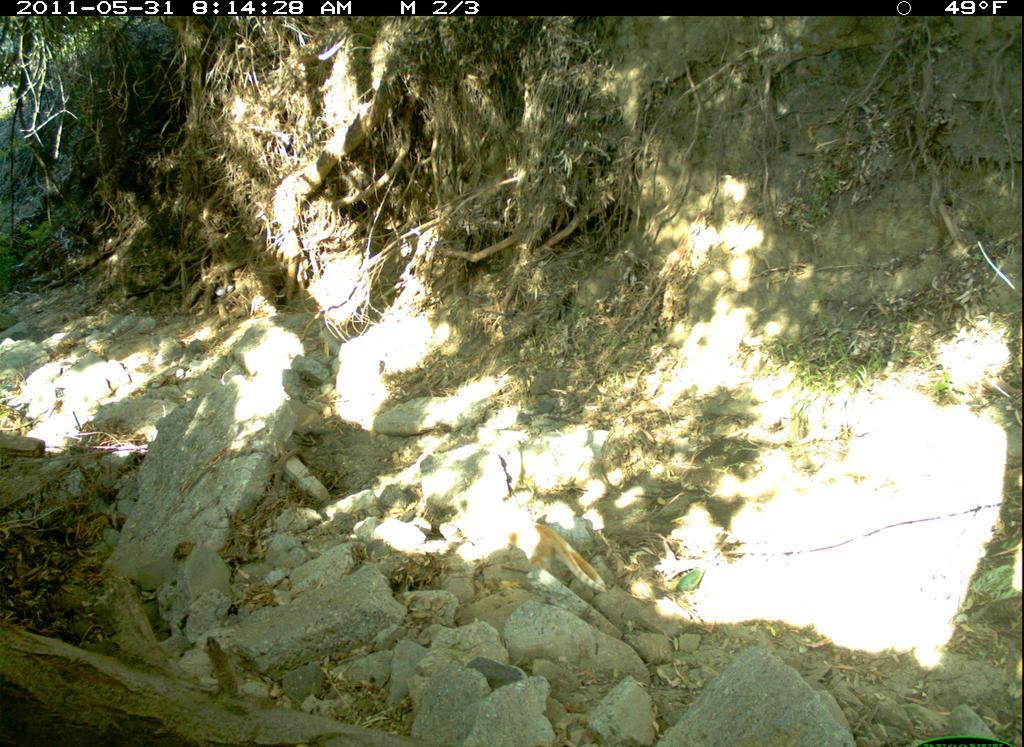cat: (454, 486, 614, 603)
